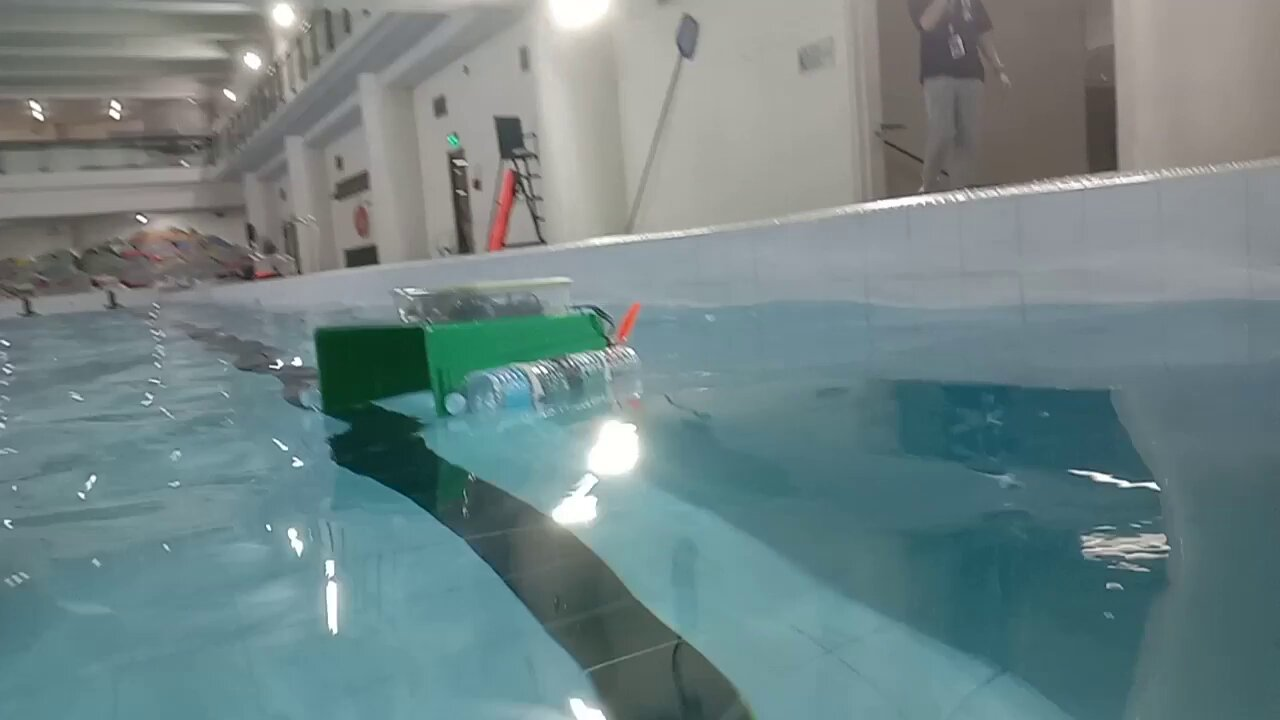drone: (314, 277, 642, 417)
